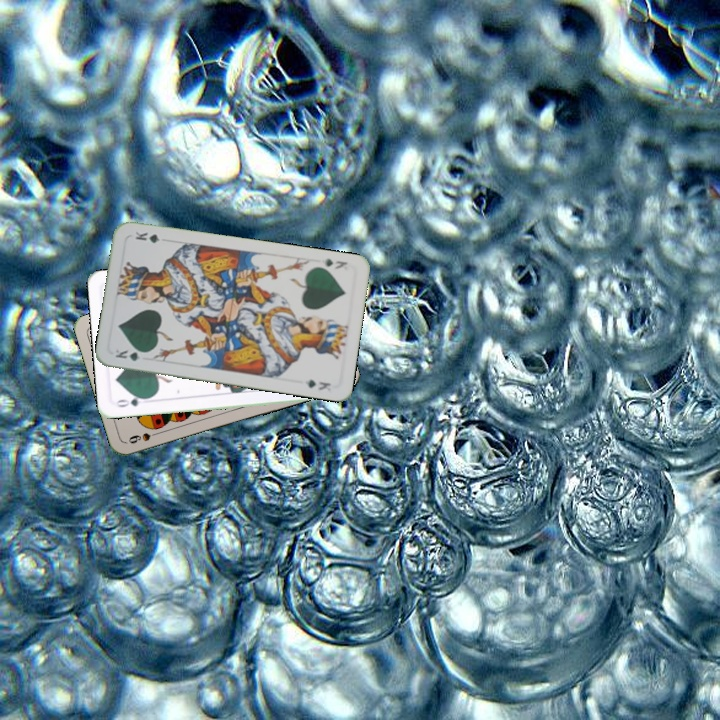GK: (111, 345, 151, 363), (321, 254, 350, 272)
GO: (112, 392, 152, 410)
S9: (124, 427, 164, 446)
